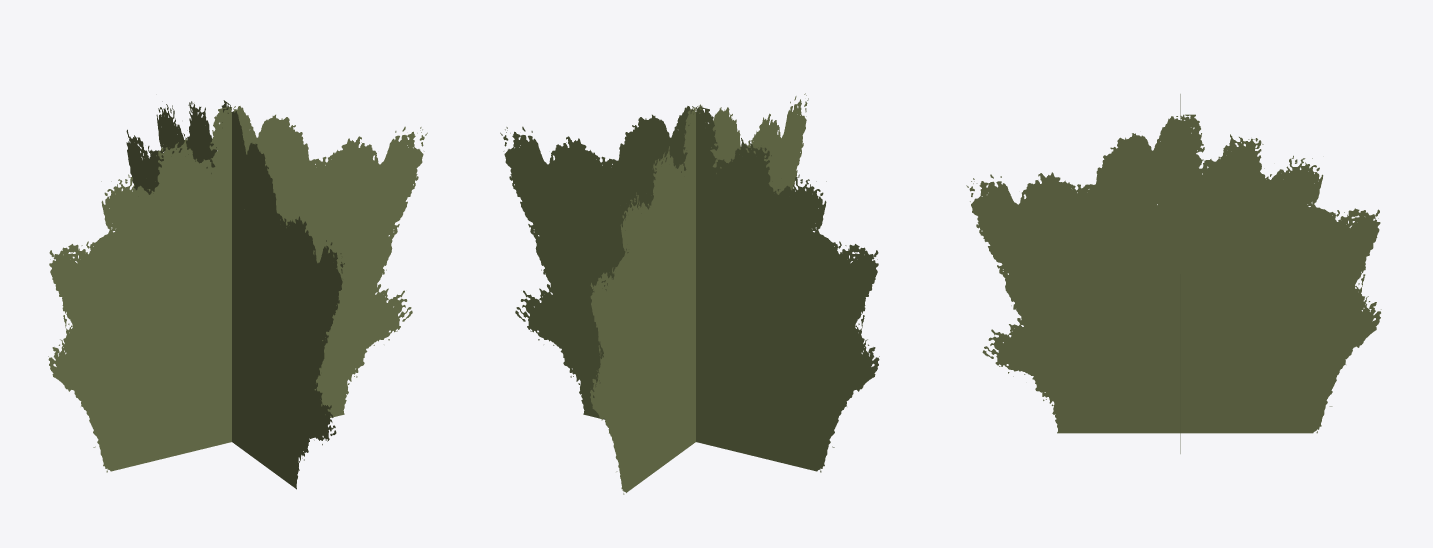
File: trawka.fbx
3 renders of one model, left to right at view 1: azimuth 30°, elevation 25°; view 2: azimuth 150°, elevation 25°; view 3: azimuth 270°, elevation 25°, orthographic. The views are drawn at different scales.
Parts seen in each view (by area): view 1: dfghjiloegrhifo.001, dfghjiloegrhifo; view 2: dfghjiloegrhifo.001, dfghjiloegrhifo; view 3: dfghjiloegrhifo.
Boxes of the visible parts, <box> form: dfghjiloegrhifo.001: <box>48,106,427,472</box>; dfghjiloegrhifo: <box>126,100,344,489</box>; dfghjiloegrhifo.001: <box>500,106,879,472</box>; dfghjiloegrhifo: <box>590,93,808,494</box>; dfghjiloegrhifo: <box>966,114,1381,433</box>.
Size of the model in its own units: 99.32 by 73.31 by 99.32.
